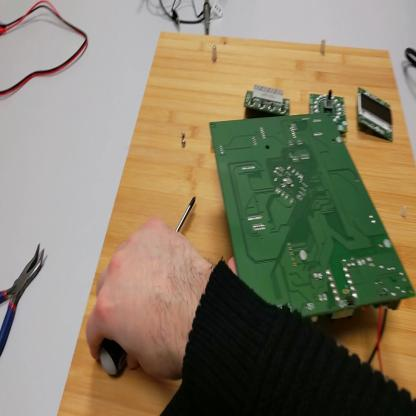hand: (85, 217, 208, 379), (227, 254, 239, 279)
low voltage board: (210, 107, 416, 372)
oscilloscope probe tip: (204, 3, 211, 35)
pliers: (1, 240, 46, 357)
screwdriver-: (101, 197, 199, 375)
working area: (58, 43, 416, 414)
